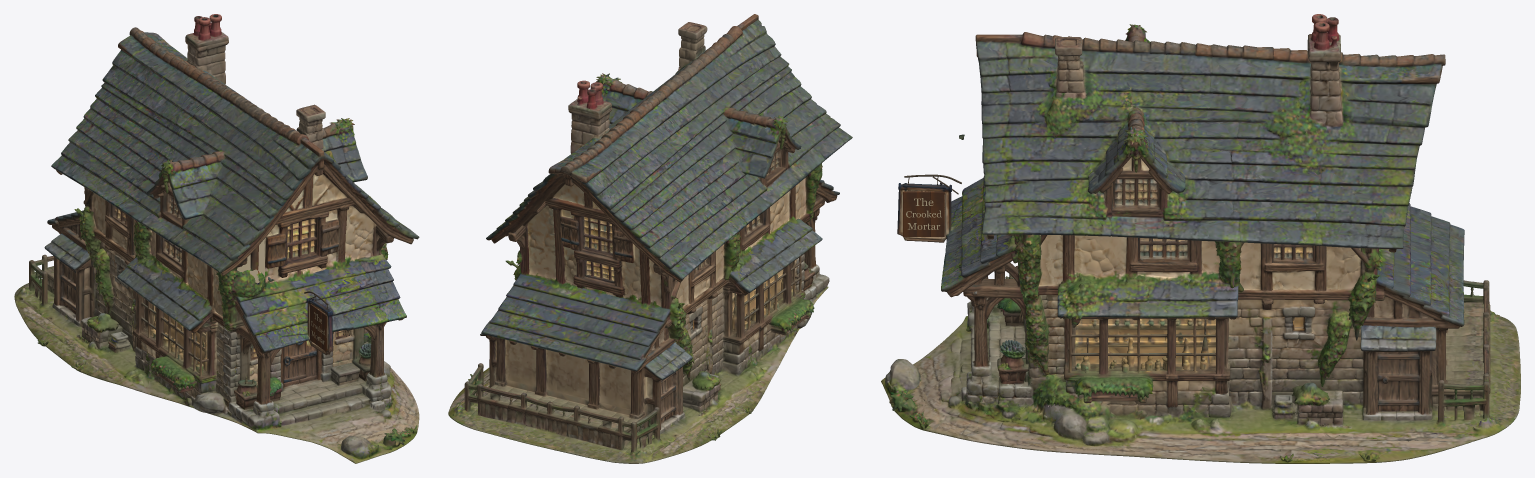
The model's file is CM_CrookedMortar_ExteriorRecovery01.fbx.
3 views of the same model, side by side, from view 1: azimuth 30°, elevation 25°; view 2: azimuth 150°, elevation 25°; view 3: azimuth 270°, elevation 25° (orthographic). The views are drawn at different scales.
Visible parts, largest first — view 1: House_Optimized; view 2: House_Optimized; view 3: House_Optimized, Sign_ReplacementInset_Plank02.001.
Boxes of the visible parts, x1=… form: House_Optimized: x1=14, y1=14, x2=419, y2=463; House_Optimized: x1=448, y1=14, x2=852, y2=463; House_Optimized: x1=881, y1=14, x2=1520, y2=463; Sign_ReplacementInset_Plank02.001: x1=930, y1=191, x2=944, y2=236.
Bounding box in the file's own units: 8.32 × 9.74 × 14.72.
